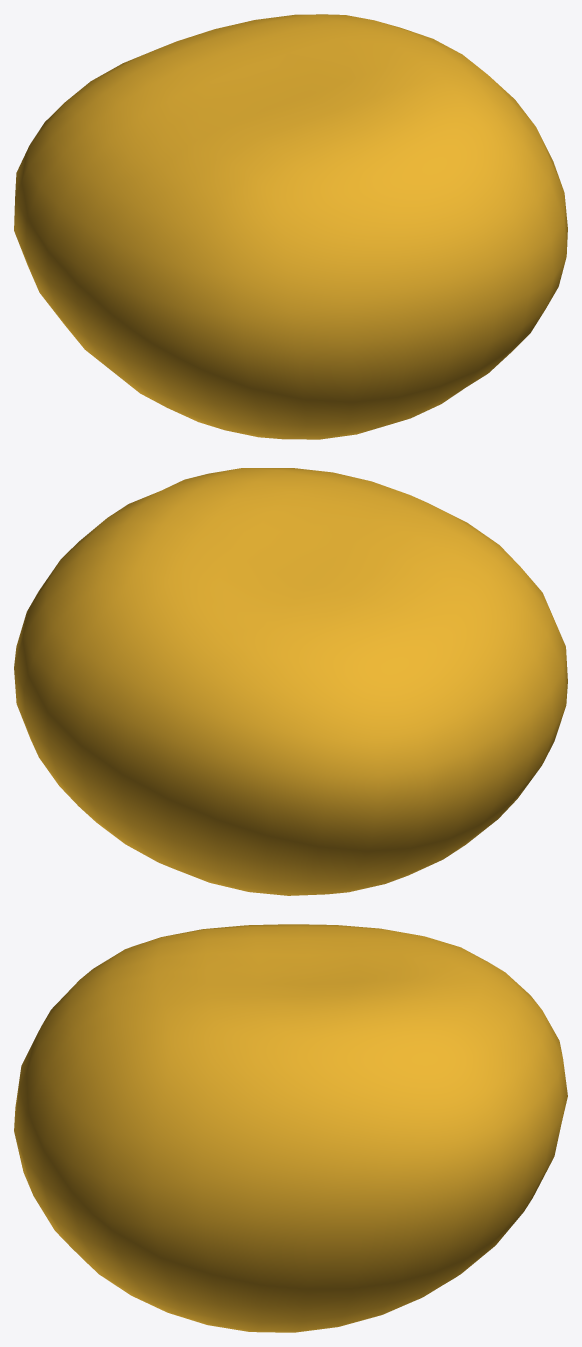
The model's file is Shrub_Top_A_01.fbx.
3 renders of one model, top to bottom at view 1: azimuth 30°, elevation 25°; view 2: azimuth 150°, elevation 25°; view 3: azimuth 270°, elevation 25°, orthographic. The views are drawn at different scales.
Visible parts, largest first — view 1: Shrub_Top_A_01_LOD0; view 2: Shrub_Top_A_01_LOD0; view 3: Shrub_Top_A_01_LOD0.
Part boxes in pixels (left/top/right/bottom): Shrub_Top_A_01_LOD0: left=14, top=14, right=567, bottom=439; Shrub_Top_A_01_LOD0: left=14, top=468, right=567, bottom=895; Shrub_Top_A_01_LOD0: left=14, top=924, right=567, bottom=1332.
Size of what is drawn, in the model's own units: 512 by 358 by 525.
